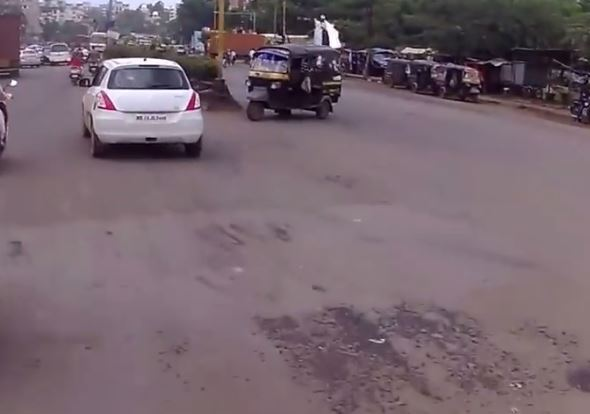autorickshaw: (240, 41, 351, 130), (406, 54, 454, 102), (442, 60, 486, 109)
car: (74, 54, 210, 172)
